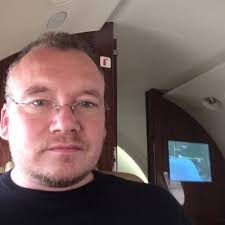white_male: (8, 69, 99, 167)
